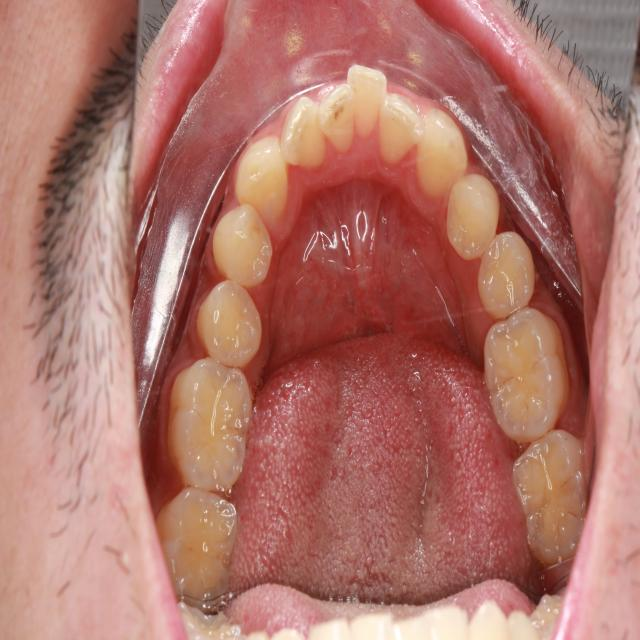tooth: (481, 290, 580, 458), (502, 418, 597, 575), (168, 354, 258, 505), (154, 470, 248, 613), (189, 272, 272, 374), (413, 93, 475, 217), (444, 159, 510, 269), (475, 226, 540, 324), (210, 201, 278, 288), (232, 137, 297, 223), (278, 85, 335, 179), (376, 82, 432, 177), (343, 43, 389, 142), (316, 67, 361, 161)
